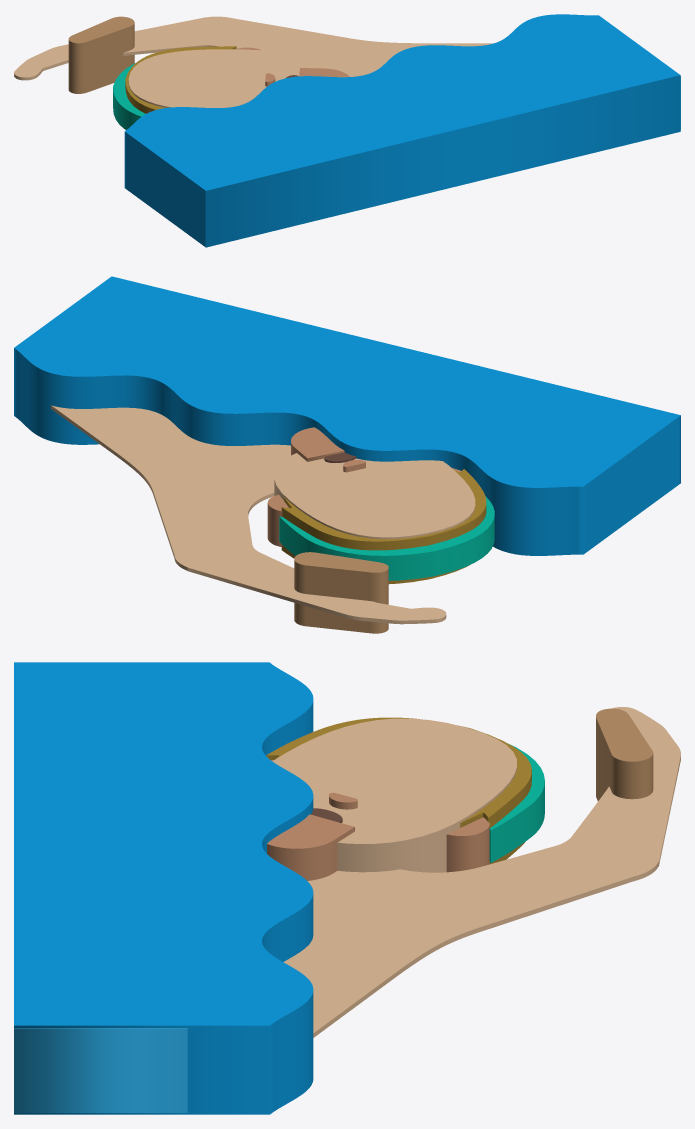
The model's file is emoji_u1f3ca_1f3fc_200d_2642.glb.
3 views of the same model, one above another, from view 1: azimuth 30°, elevation 25°; view 2: azimuth 150°, elevation 25°; view 3: azimuth 270°, elevation 25° (orthographic). The views are drawn at different scales.
Visible parts, largest first — view 1: emoji_u1f3ca_1f3fc_200d_2642; view 2: emoji_u1f3ca_1f3fc_200d_2642; view 3: emoji_u1f3ca_1f3fc_200d_2642.
Boxes of the visible parts, x1,y1,x2,y2 form: emoji_u1f3ca_1f3fc_200d_2642: (14, 14, 680, 247); emoji_u1f3ca_1f3fc_200d_2642: (14, 276, 680, 633); emoji_u1f3ca_1f3fc_200d_2642: (14, 662, 680, 1114).
Size of the model in its own units: 0.0333 by 0.0038 by 0.0258.
